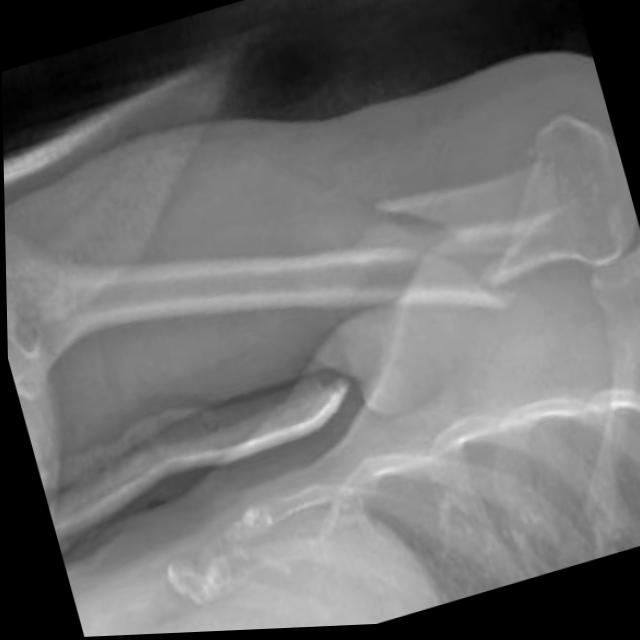fracture: (331, 128, 534, 363)
